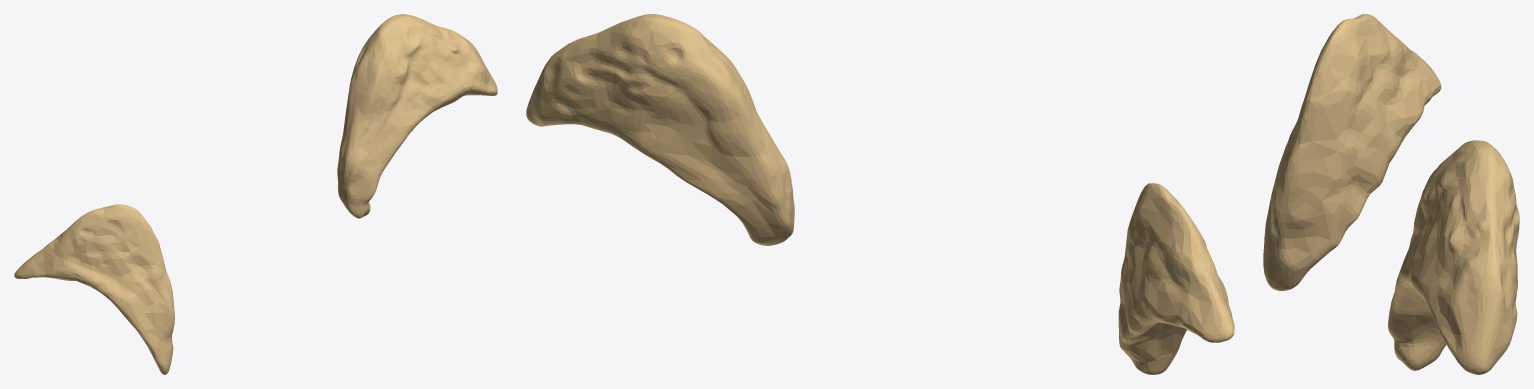
File: adrenal.glb
3 renders of one model, left to right at view 1: azimuth 30°, elevation 25°; view 2: azimuth 150°, elevation 25°; view 3: azimuth 270°, elevation 25°, orthographic. The views are drawn at different scales.
Parts seen in each view (by area): view 1: Adrenal (×2); view 2: Adrenal (×2); view 3: Adrenal (×2).
Boxes of the visible parts, box(x1,y1,x2,y2) form: Adrenal (×2): box(14, 14, 497, 374); Adrenal (×2): box(526, 14, 1234, 374); Adrenal (×2): box(1263, 14, 1519, 374).
Bounding box in the file's own units: 138 × 62.7 × 39.21.
